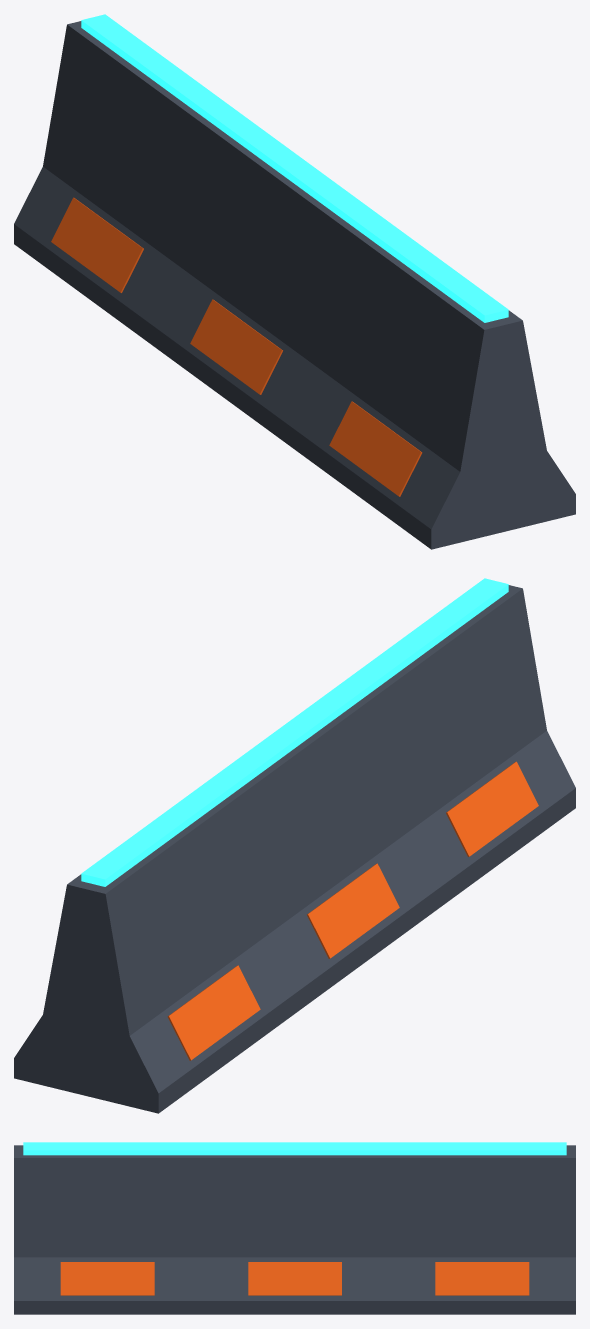
File: barrier_jersey.glb
3 views of the same model, one above another, from view 1: azimuth 30°, elevation 25°; view 2: azimuth 150°, elevation 25°; view 3: azimuth 270°, elevation 25° (orthographic). The views are drawn at different scales.
Visible parts, largest first — view 1: barrier; view 2: barrier; view 3: barrier.
Boxes of the visible parts, x1,y1,x2,y2 form: barrier: (14, 14, 575, 549); barrier: (14, 578, 575, 1113); barrier: (14, 1142, 575, 1314).
Bounding box in the file's own units: 0.6 × 0.85 × 3.
